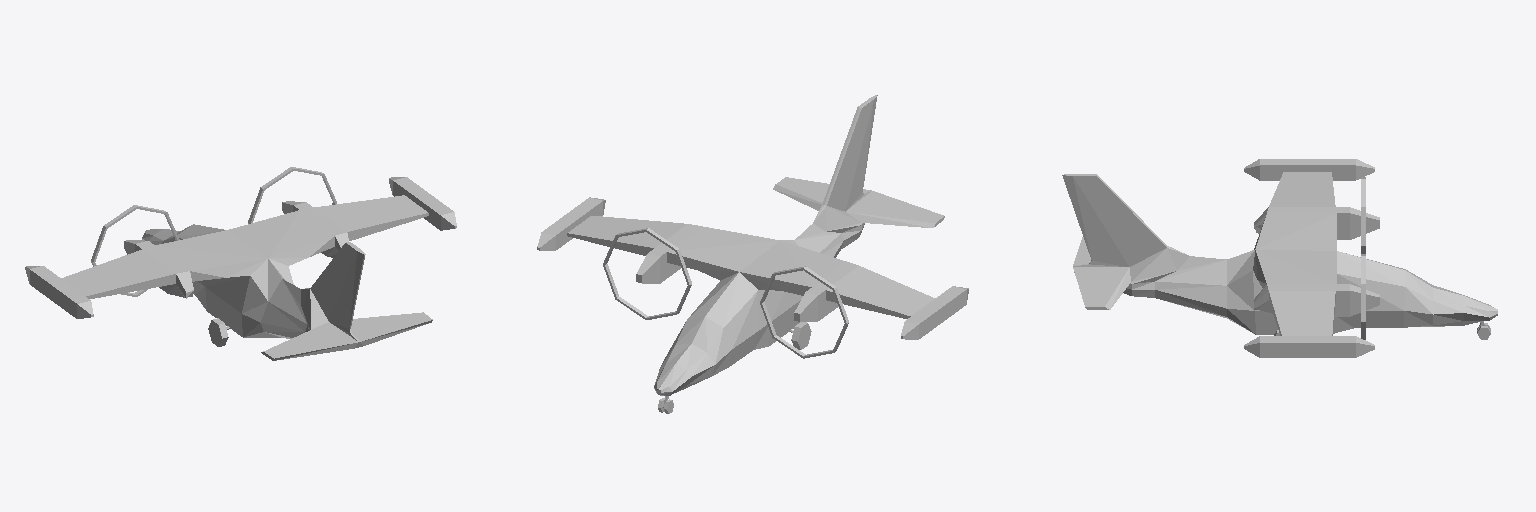
3 views of the same model, side by side, from view 1: azimuth 30°, elevation 25°; view 2: azimuth 150°, elevation 25°; view 3: azimuth 270°, elevation 25° (orthographic).
Visible parts, largest first — view 1: MU2_Circle.023; view 2: MU2_Circle.023; view 3: MU2_Circle.023.
Part boxes in pixels (x1,y1,x2,y2): MU2_Circle.023: (25,167,456,360); MU2_Circle.023: (537,95,968,413); MU2_Circle.023: (1062,159,1497,357).
Bounding box in the file's own units: 12 × 4.94 × 12.